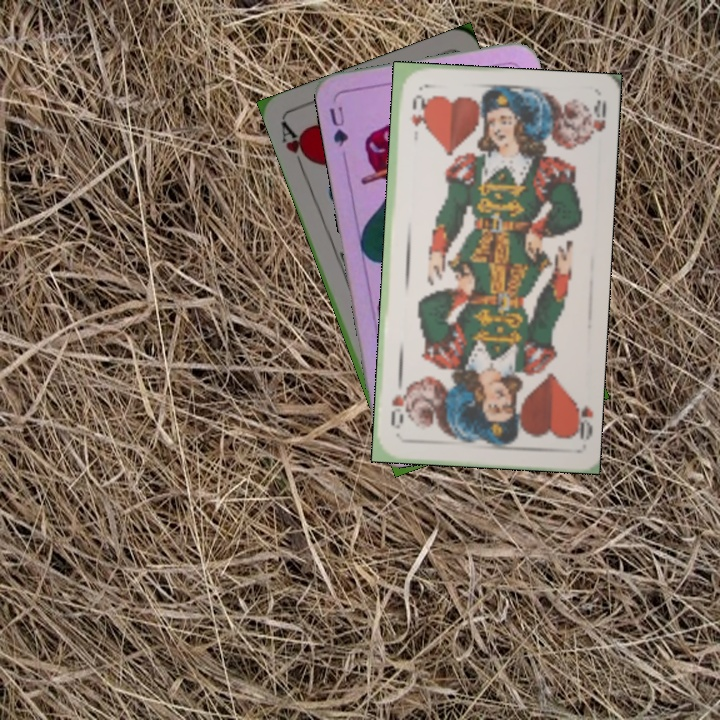GU: (325, 103, 351, 149)
HA: (277, 117, 315, 174)
HO: (566, 391, 594, 442), (406, 91, 426, 129)
